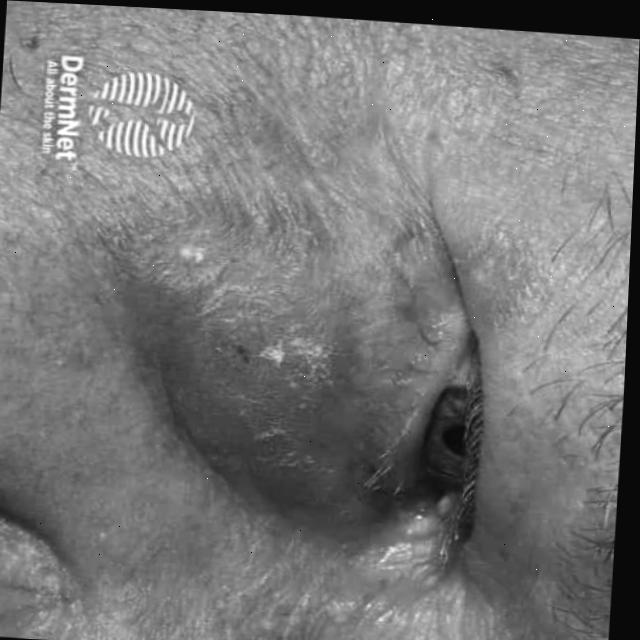lupus-detected: (125, 210, 412, 507)
